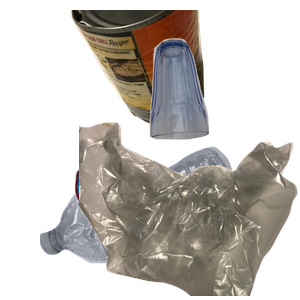glass: (147, 36, 300, 168)
metal: (68, 10, 265, 131)
plastic: (37, 144, 265, 300)
trash: (79, 120, 300, 300)
